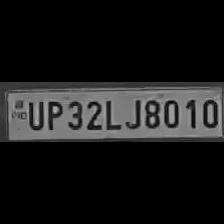0: (160, 96, 180, 128), (198, 96, 218, 128)
1: (180, 96, 198, 130)
2: (83, 97, 103, 130)
3: (64, 97, 82, 130)
8: (141, 96, 161, 130)
J: (122, 96, 140, 130)
L: (102, 96, 120, 130)
P: (44, 97, 64, 131)
U: (24, 97, 43, 130)
